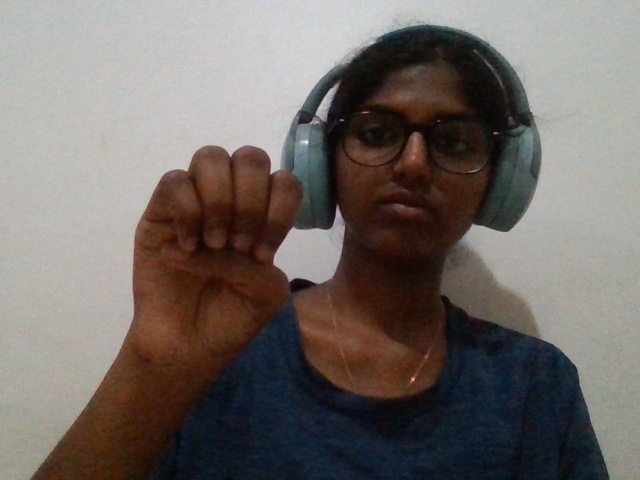E: (110, 132, 349, 438)
